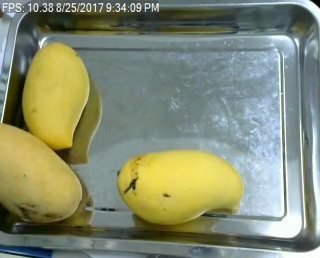Mango: (116, 150, 243, 223), (0, 124, 82, 222), (21, 44, 89, 148)
